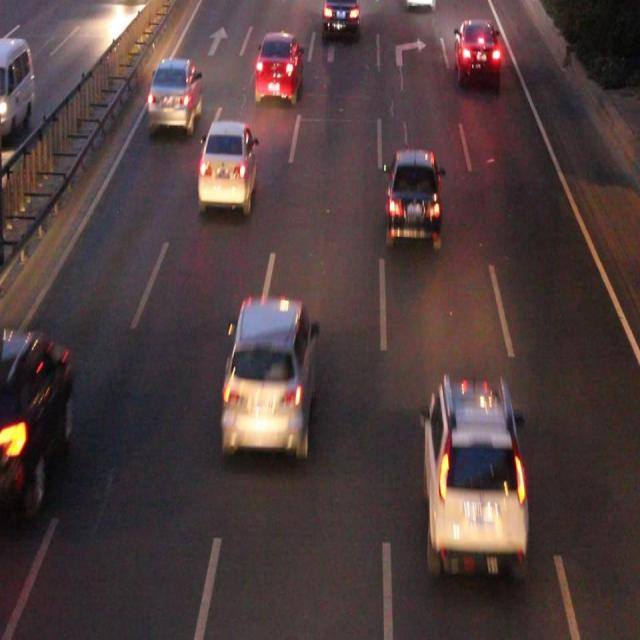car: (423, 382, 524, 572), (226, 298, 313, 449), (1, 330, 71, 511), (386, 150, 438, 239), (198, 121, 255, 201), (149, 63, 201, 124), (255, 34, 302, 98), (453, 23, 499, 80), (323, 1, 359, 36)
